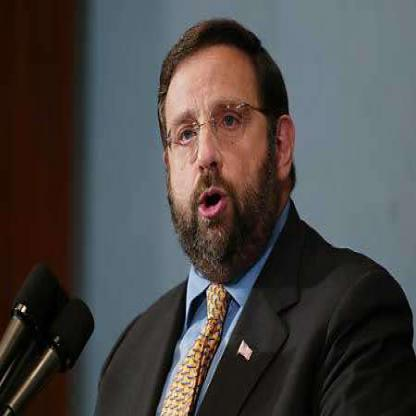face: (160, 21, 279, 276)
